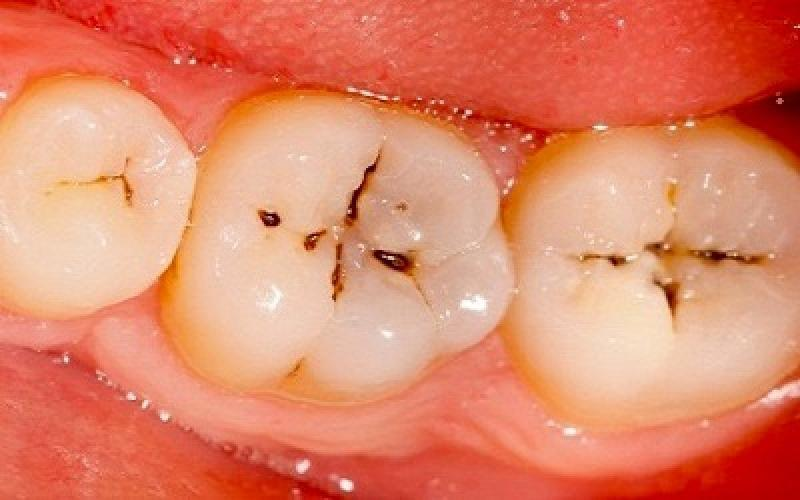Caries: (578, 176, 760, 338), (258, 141, 431, 300), (54, 148, 148, 216), (276, 348, 315, 390)
